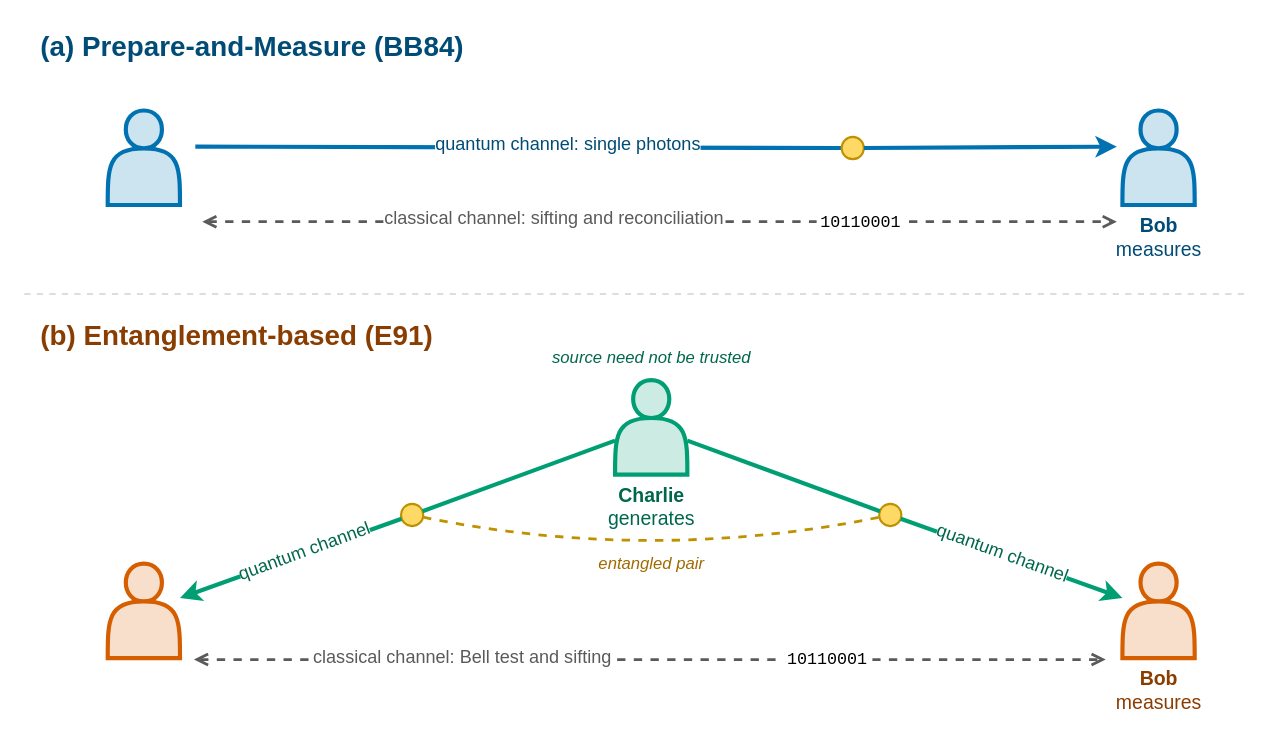
The diagram is 1275 pixels wide and 738 high, and some of its shapes have lost their labels. Here are the shapes that lost their labels. From the top down, the box of each, then its label:
(105, 108, 181, 206): Alice generates
(105, 561, 181, 660): Alice measures
